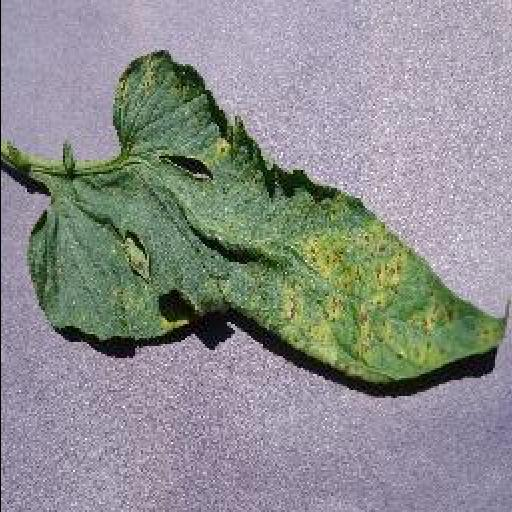disease_tomato: (24, 48, 508, 386)
